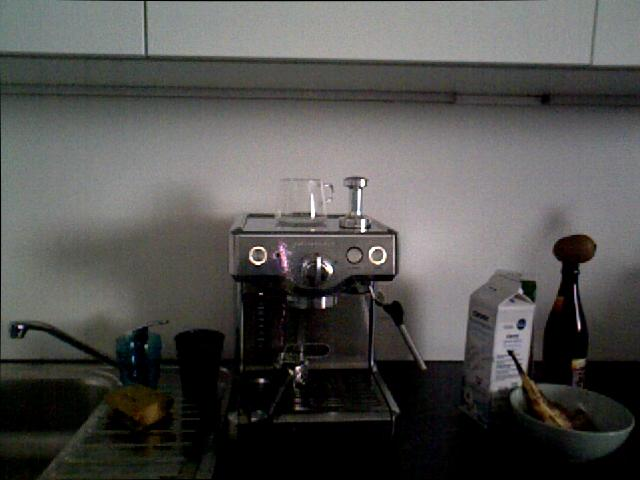bench: (459, 267, 535, 433), (541, 261, 596, 414)
bird: (508, 382, 635, 461)
couch: (0, 364, 120, 479)
handbag: (109, 326, 167, 401), (270, 171, 338, 228), (173, 328, 225, 402)
motorcycle: (500, 344, 605, 434)
